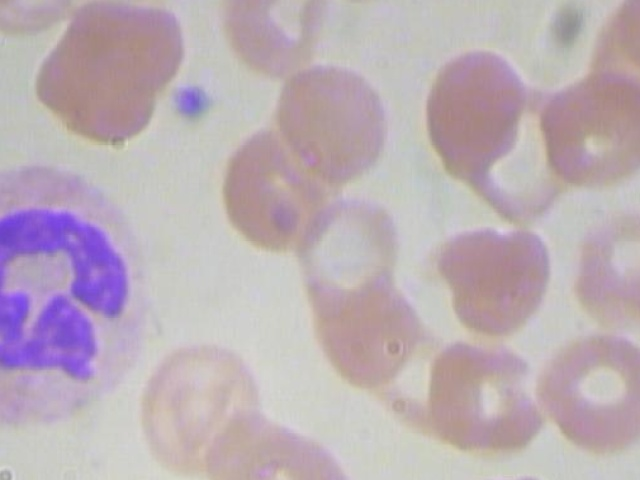Platelets: (163, 79, 217, 129)
RBC: (28, 0, 187, 154), (121, 335, 267, 480), (220, 122, 352, 259), (417, 333, 548, 462), (526, 323, 640, 462), (440, 218, 559, 343), (415, 47, 532, 169), (272, 65, 393, 182), (536, 61, 640, 186), (203, 0, 336, 82), (561, 197, 640, 327), (0, 0, 83, 37), (442, 469, 571, 480)
WBC: (0, 161, 161, 440)
